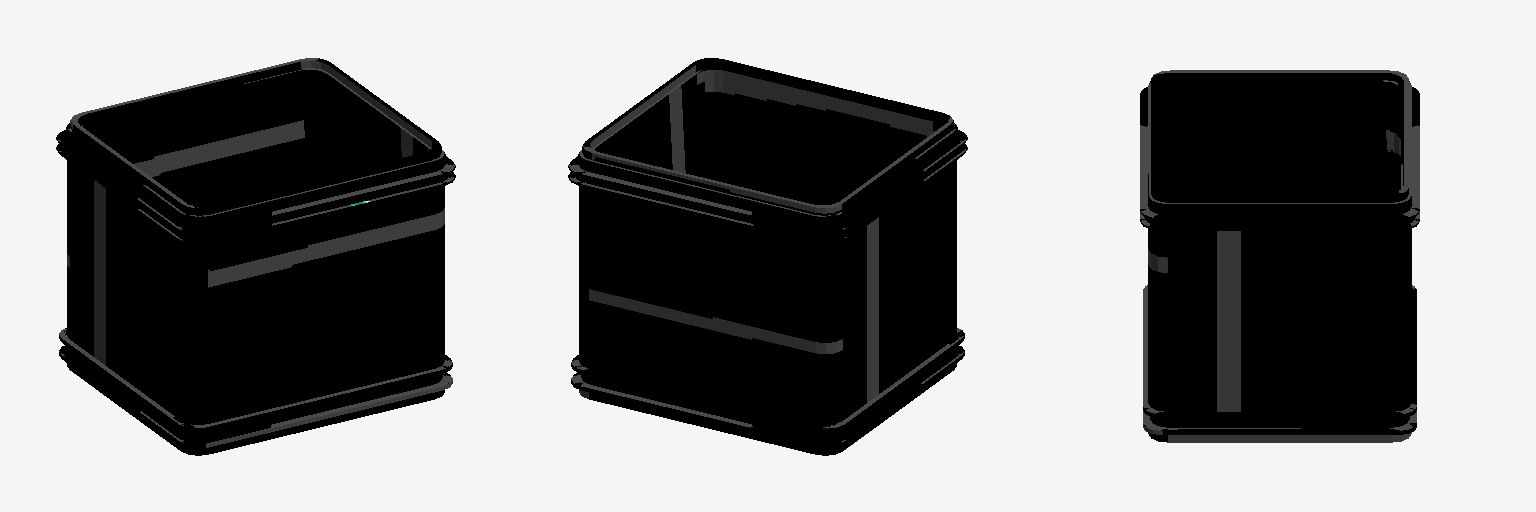
The picture shows the model from 3 angles: view 1: azimuth 30°, elevation 25°; view 2: azimuth 150°, elevation 25°; view 3: azimuth 270°, elevation 25°; orthographic projection.
Visible parts, largest first — view 1: Cube_Cube.002; view 2: Cube_Cube.002; view 3: Cube_Cube.002.
Boxes of the visible parts, box(x1,y1,x2,y2) form: Cube_Cube.002: box(56, 58, 455, 455); Cube_Cube.002: box(568, 58, 967, 455); Cube_Cube.002: box(1140, 70, 1419, 442).
Bounding box in the file's own units: 2.42 × 2.06 × 2.13.
1 materials, 1 textured.